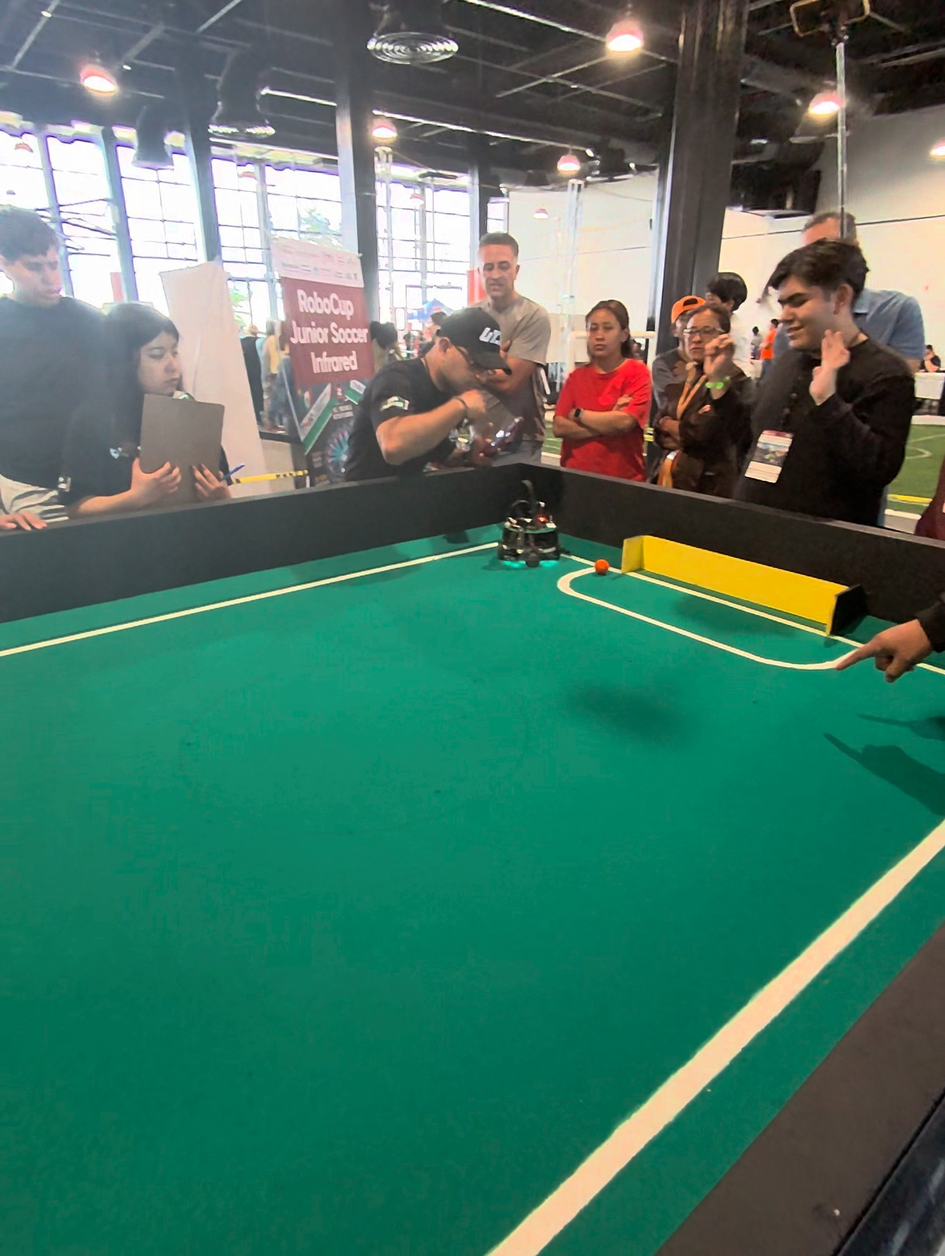Robot: (498, 479, 562, 578)
pelota: (591, 559, 608, 576)
